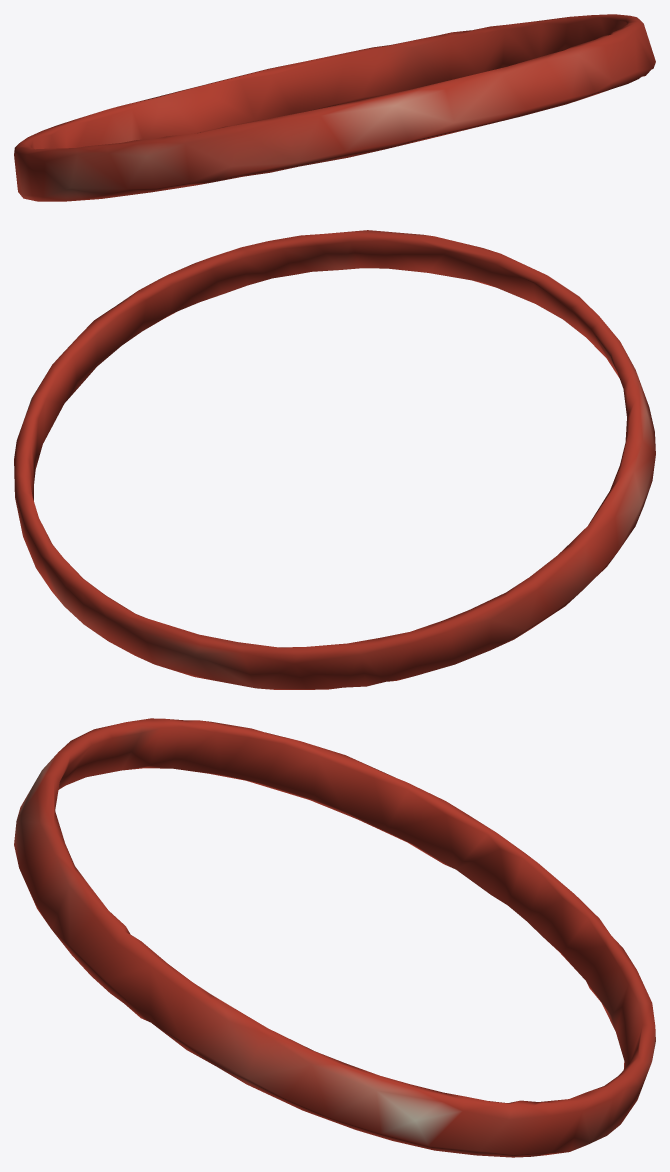
File: bangdo.glb
3 views of the same model, one above another, from view 1: azimuth 30°, elevation 25°; view 2: azimuth 150°, elevation 25°; view 3: azimuth 270°, elevation 25° (orthographic). The views are drawn at different scales.
Visible parts, largest first — view 1: Bang_Do; view 2: Bang_Do; view 3: Bang_Do.
Part boxes in pixels (box(x1,y1,x2,y2)): Bang_Do: box(14, 14, 655, 201); Bang_Do: box(14, 230, 655, 689); Bang_Do: box(14, 718, 655, 1157).
Size of the model in its own units: 0.2702 by 0.1109 by 0.2289.
